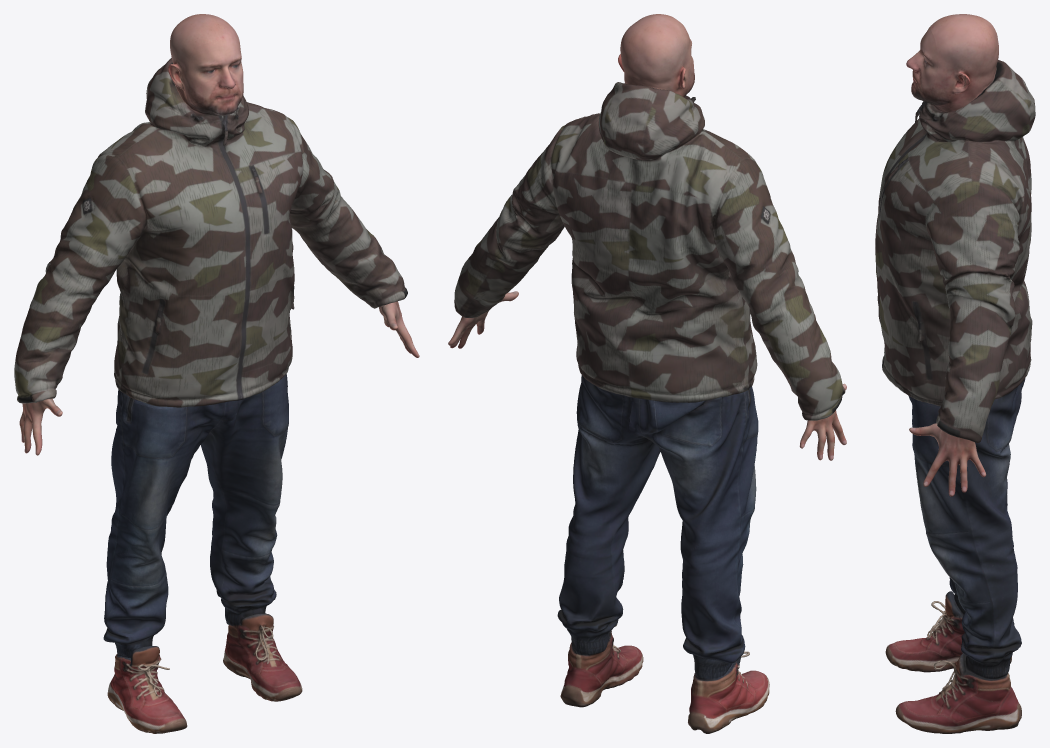
The model's file is Richard.glb.
The picture shows the model from 3 angles, left to right: view 1: azimuth 30°, elevation 25°; view 2: azimuth 150°, elevation 25°; view 3: azimuth 270°, elevation 25°; orthographic projection.
Visible parts, largest first — view 1: Group18678.001; view 2: Group18678.001; view 3: Group18678.001.
Part boxes in pixels (x1,y1,x2,y2): Group18678.001: [14, 14, 419, 733]; Group18678.001: [448, 14, 846, 733]; Group18678.001: [875, 14, 1035, 733].
Bounding box in the file's own units: 1.08 × 1.8 × 0.3834.
Materials: 1 (1 with a texture image).
